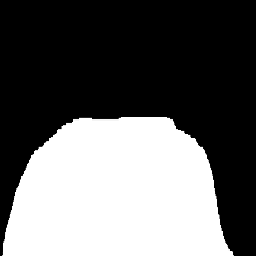mass: (13, 111, 241, 255)
